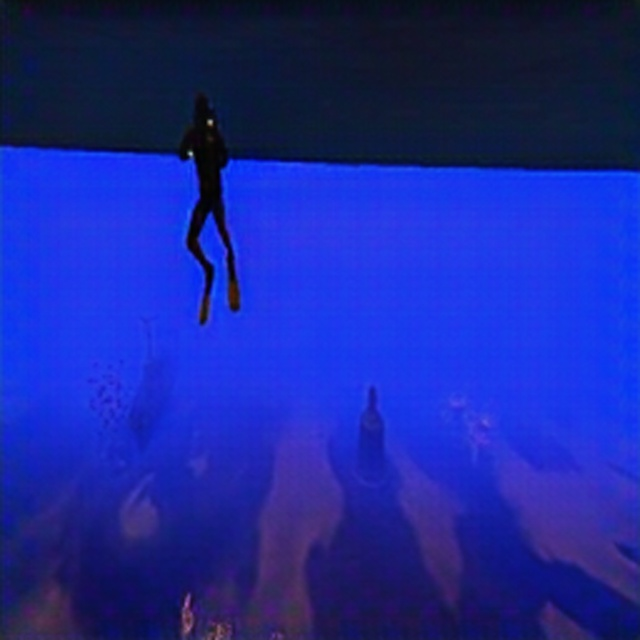diver: (176, 91, 240, 325)
